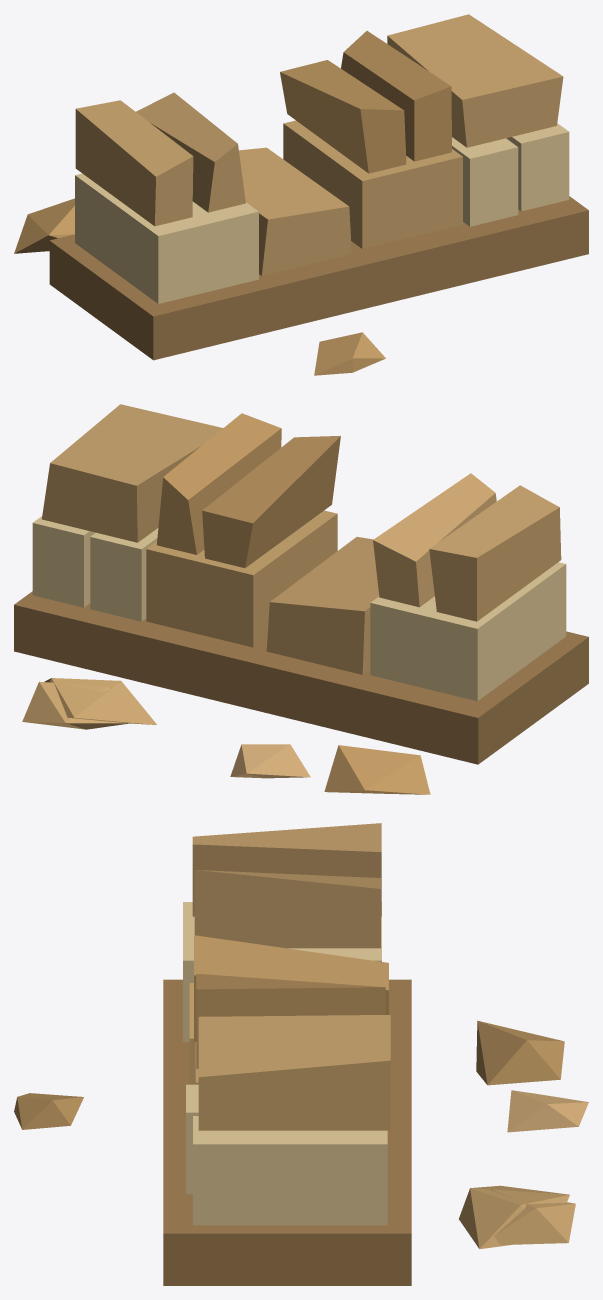
File: desert_ruinwall_c.glb
The picture shows the model from 3 angles, top to bottom: view 1: azimuth 30°, elevation 25°; view 2: azimuth 150°, elevation 25°; view 3: azimuth 270°, elevation 25°; orthographic projection. The views are drawn at different scales.
Parts seen in each view (by area): view 1: desert_ruinwall_c; view 2: desert_ruinwall_c; view 3: desert_ruinwall_c.
Boxes of the visible parts, <box> form: desert_ruinwall_c: <box>14,14,588,375</box>; desert_ruinwall_c: <box>14,404,588,794</box>; desert_ruinwall_c: <box>14,823,588,1285</box>.
Size of the model in its own units: 2.08 by 0.8593 by 1.99.
